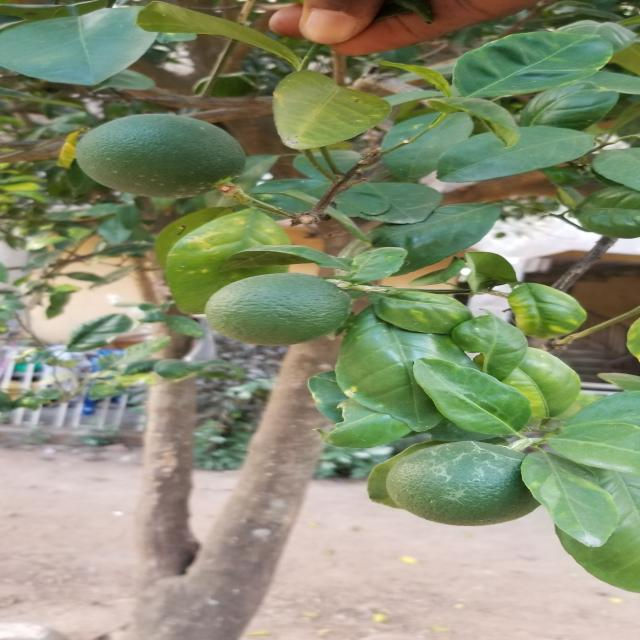Unripe: (69, 111, 261, 213), (385, 434, 552, 534), (196, 264, 366, 356)
